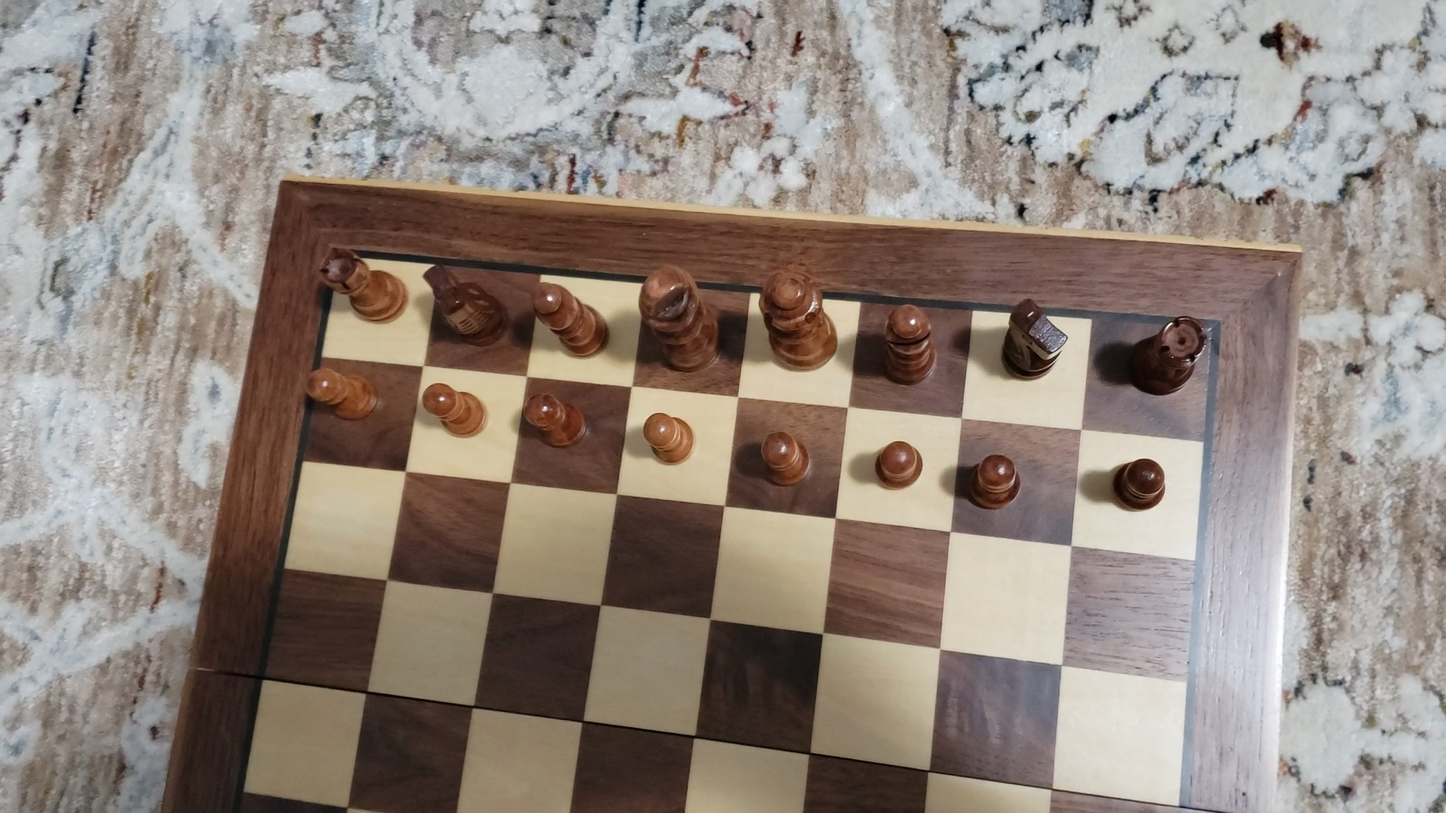black-bishop: (532, 278, 606, 357), (881, 301, 936, 386)
black-king: (637, 258, 720, 375)
black-knight: (422, 261, 508, 347), (999, 295, 1068, 382)
black-pawn: (305, 364, 379, 422), (523, 390, 590, 449), (421, 381, 486, 438), (966, 451, 1023, 512), (1110, 456, 1169, 513), (758, 426, 812, 488), (642, 409, 696, 466), (872, 436, 925, 492)
black-queen: (755, 257, 842, 373)
black-rook: (1125, 314, 1210, 397), (316, 245, 407, 322)
